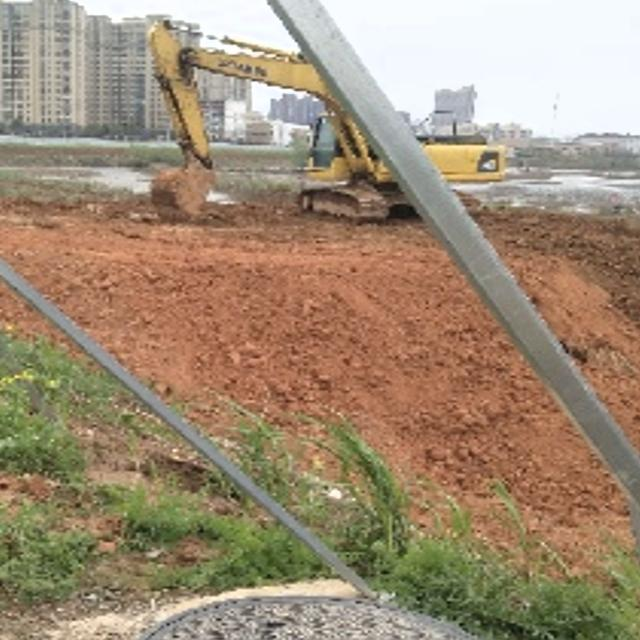good: (112, 593, 530, 640)
